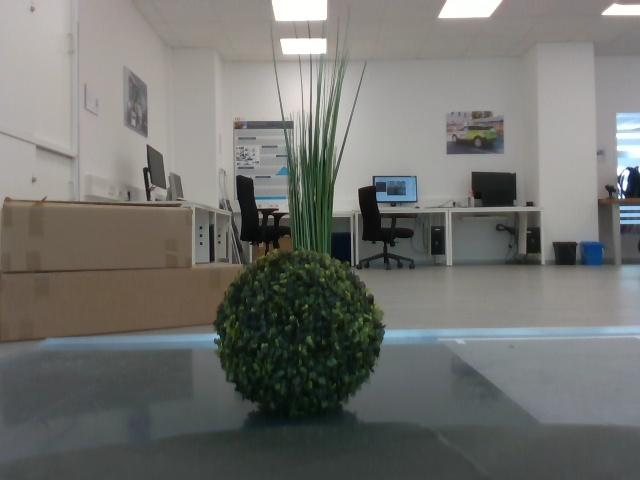potted plant: (214, 253, 397, 425), (274, 58, 364, 246)
